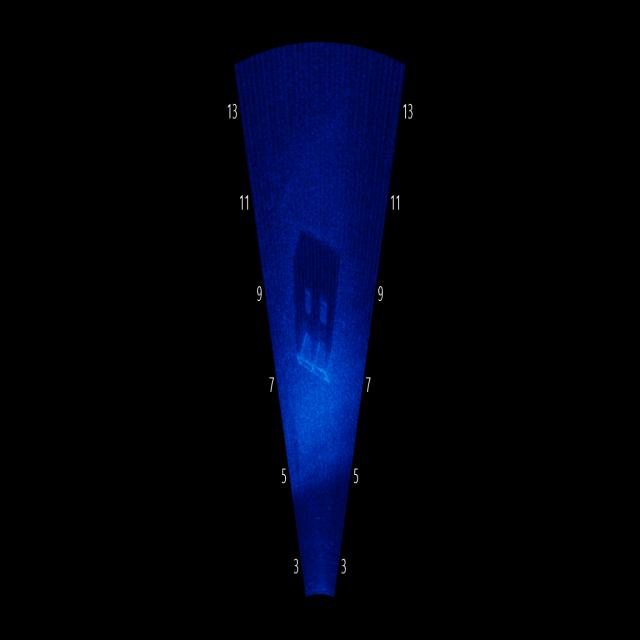square: (287, 320, 344, 390)
